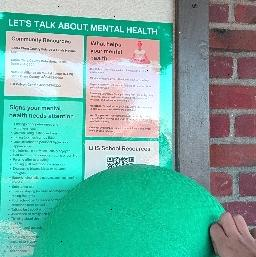algae: (31, 161, 244, 257)
